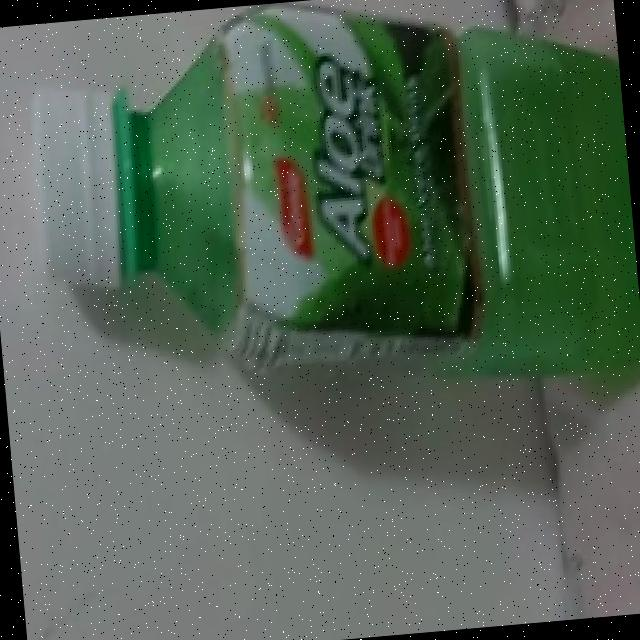bottle: (2, 0, 640, 453)
cap: (19, 74, 154, 306)
label: (186, 0, 472, 371)
